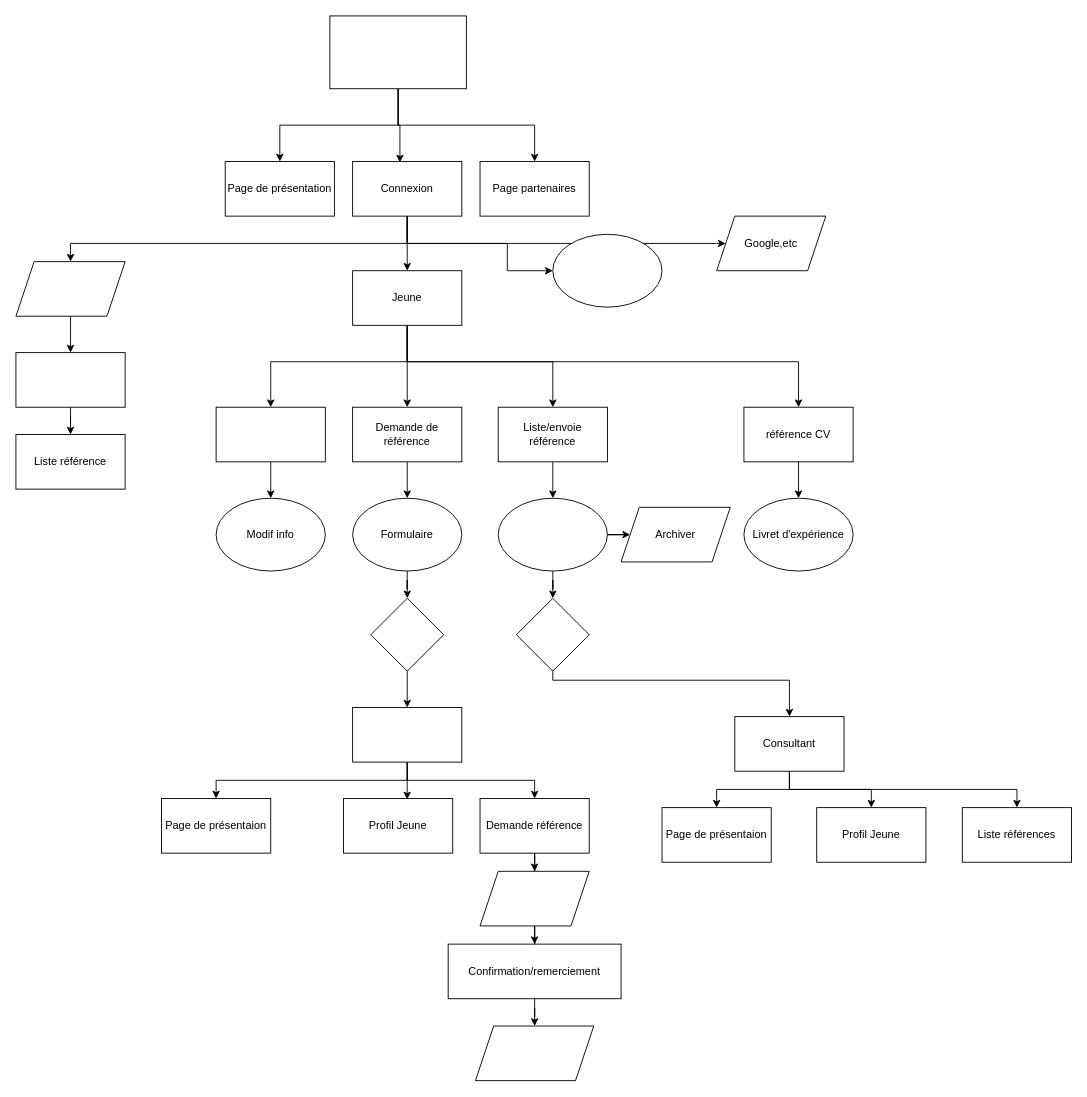
The diagram is 1087 pixels wide and 1097 high, and some of its shapes have lost their labels. The centre of each missing label's shape, as x and y in pixels:
"Admin" belongs at (x=70, y=288).
"Lien consultant" belongs at (x=552, y=634).
"Lien référent" belongs at (x=407, y=634).
"Liste compte" belongs at (x=70, y=379).
"Mail confirm jeune" belongs at (x=534, y=1053).
"Nom,prénom,etc" belongs at (x=607, y=270).
"Profil" belongs at (x=270, y=434).
"Référent" belongs at (x=407, y=734).
"Savoir etre" belongs at (x=534, y=898).
"Sélection des référence" belongs at (x=552, y=534).
"Visiteur" belongs at (x=397, y=52).
